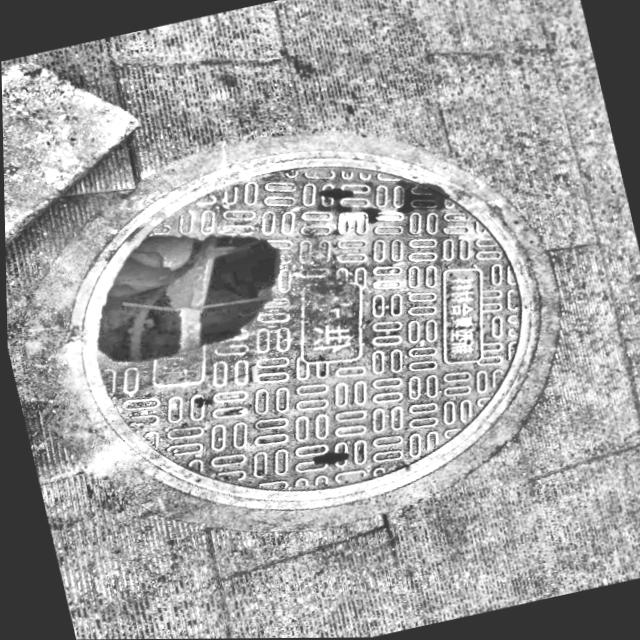Open Manhole: (4, 131, 556, 532)
